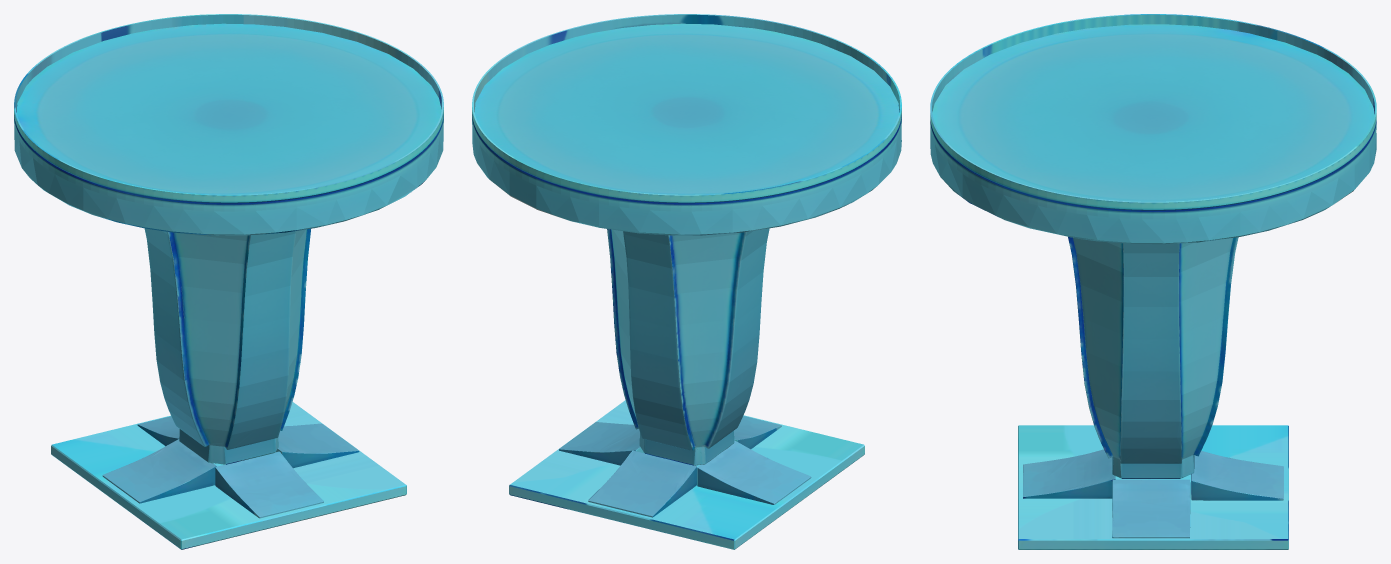
File: edited_mesh.glb
3 views of the same model, side by side, from view 1: azimuth 30°, elevation 25°; view 2: azimuth 150°, elevation 25°; view 3: azimuth 270°, elevation 25° (orthographic). The views are drawn at different scales.
Parts seen in each view (by area): view 1: solid_001_wire; view 2: solid_001_wire; view 3: solid_001_wire.
Boxes of the visible parts, x1=… form: solid_001_wire: x1=14, y1=14, x2=443, y2=549; solid_001_wire: x1=472, y1=14, x2=901, y2=549; solid_001_wire: x1=930, y1=14, x2=1376, y2=549.
Size of the model in its own units: 1.38 by 1.31 by 1.38.
Materials: 1 (1 with a texture image).
